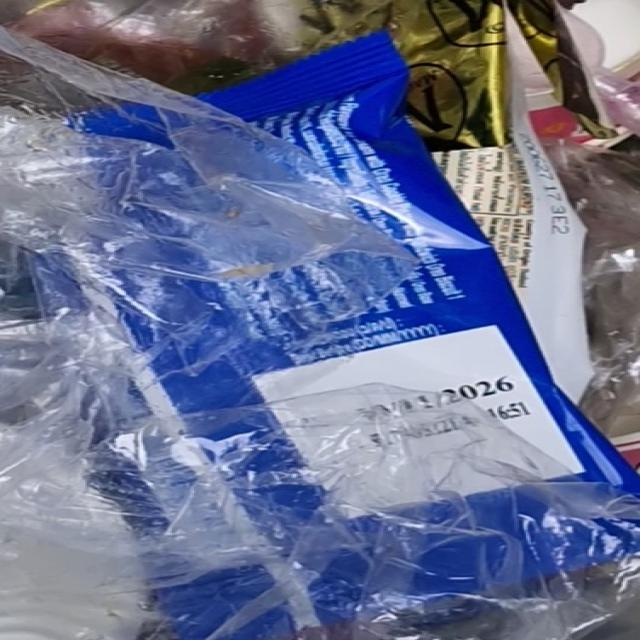plastic bag: (47, 0, 640, 615)
